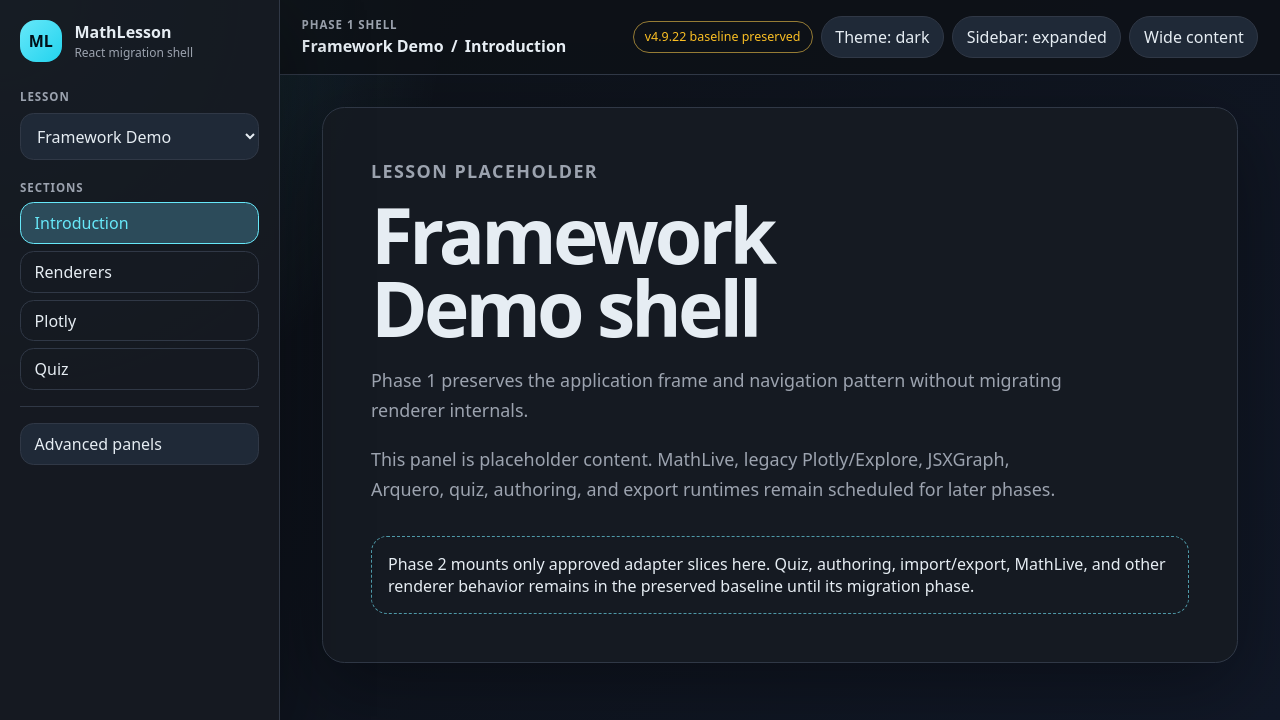
Test: App shell › persists advanced nav disclosure as the legacy raw value
The width and height of the screenshot is (1280, 720).
Click the button "Advanced panels": (140, 444) [20,423,259,465]
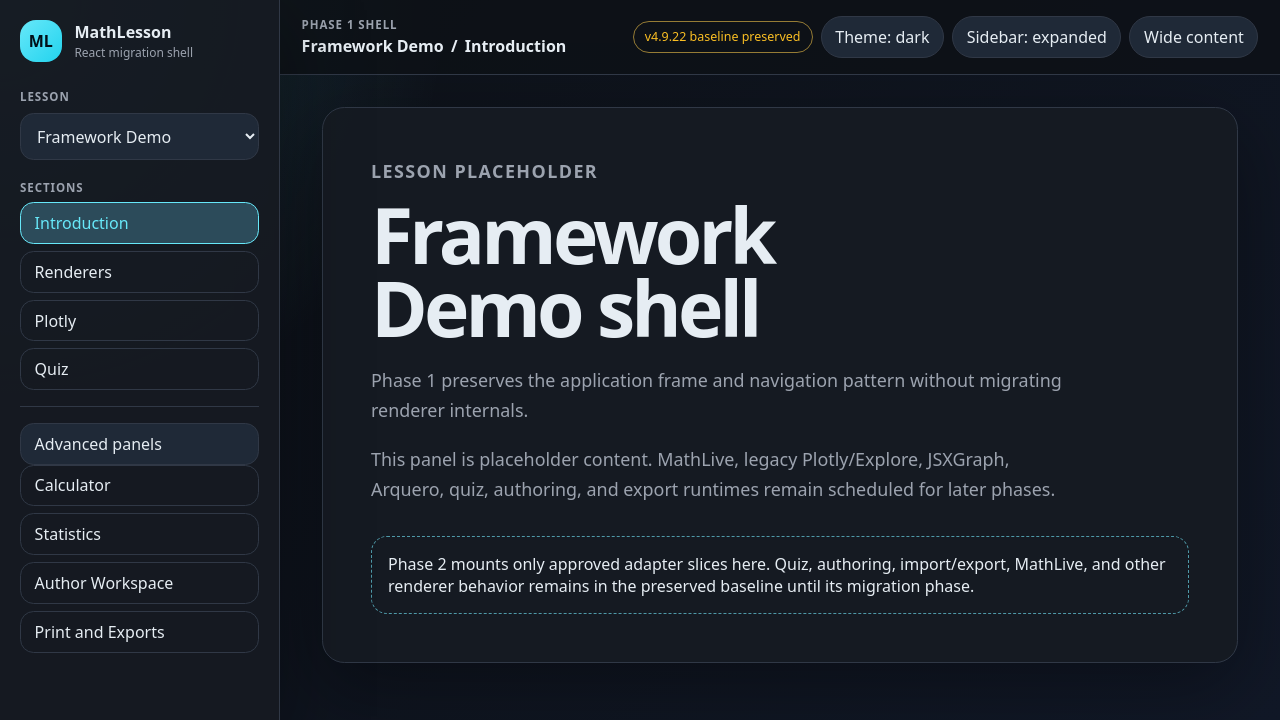
Result: the button "Calculator" is shown at [20,465,259,506]
